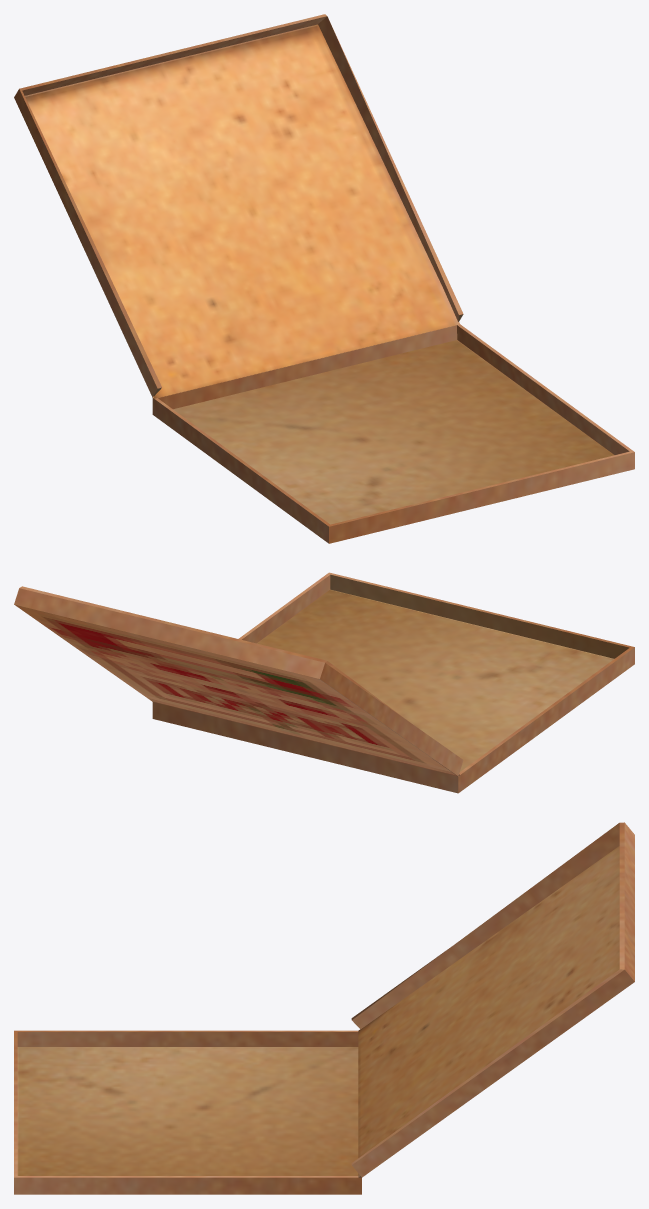
File: pizza_box_clean.glb
3 renders of one model, top to bottom at view 1: azimuth 30°, elevation 25°; view 2: azimuth 150°, elevation 25°; view 3: azimuth 270°, elevation 25°, orthographic.
Parts seen in each view (by area): view 1: pizza box clean; view 2: pizza box clean; view 3: pizza box clean.
Part boxes in pixels (x1=…): pizza box clean: x1=14, y1=14, x2=634, y2=543; pizza box clean: x1=14, y1=572, x2=634, y2=793; pizza box clean: x1=14, y1=822, x2=634, y2=1194.
Bounding box in the file's own units: 0.5276 × 0.3762 × 0.9413.
Materials: 1 (1 with a texture image).
